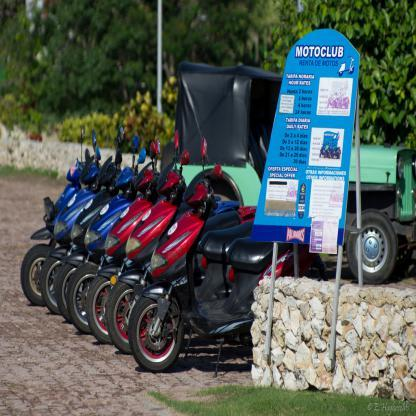motorcycle: (129, 179, 270, 371), (106, 169, 185, 352), (88, 200, 145, 342)
